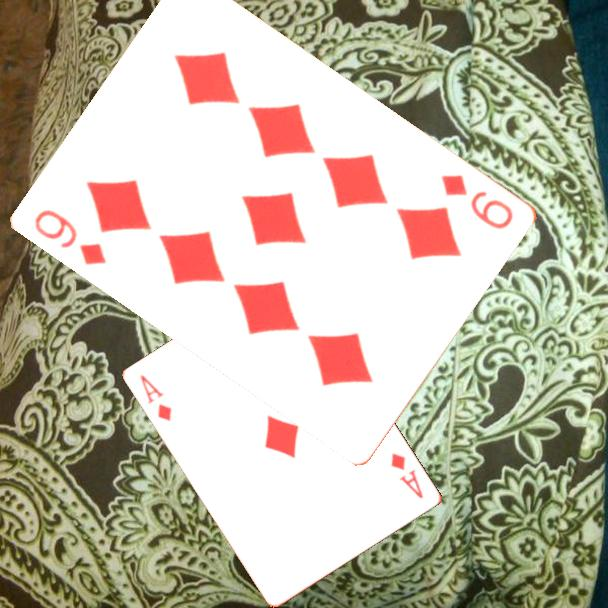d01: (388, 449, 427, 502), (137, 371, 175, 424)
d09: (438, 170, 517, 233), (31, 205, 110, 268)
